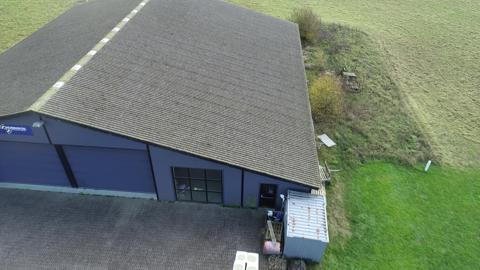RockwoolPallet: (233, 251, 260, 270)
